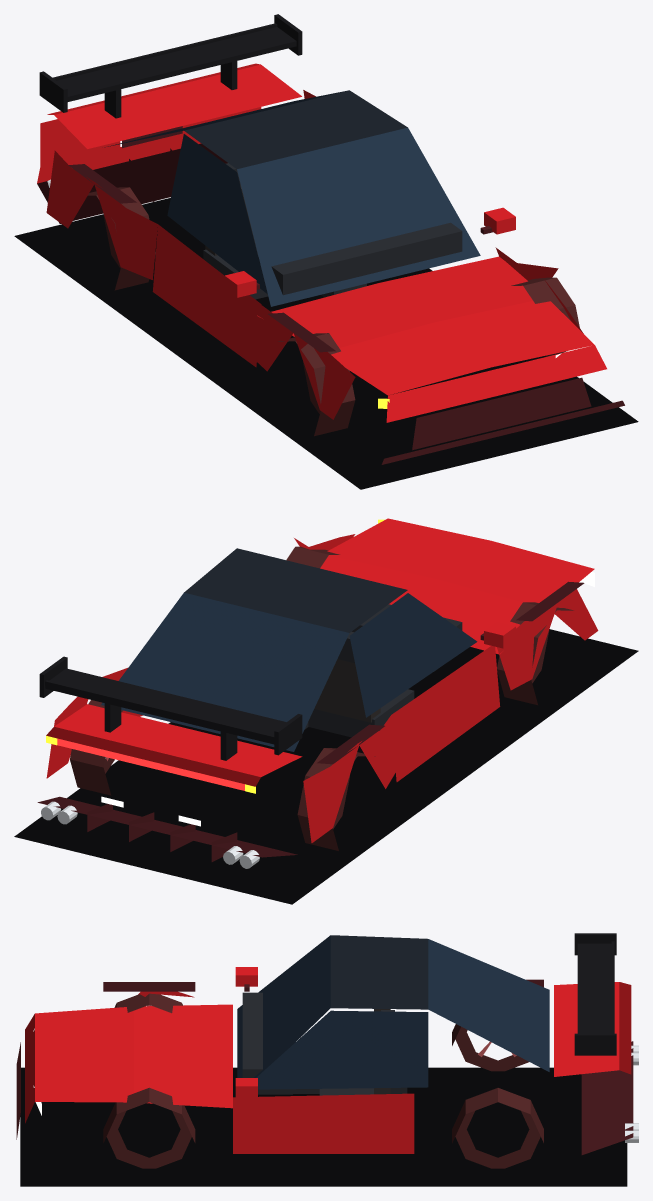
File: apex_gt_sports_coupe_lod2.glb
3 views of the same model, one above another, from view 1: azimuth 30°, elevation 25°; view 2: azimuth 150°, elevation 25°; view 3: azimuth 270°, elevation 25° (orthographic). The views are drawn at different scales.
Parts seen in each view (by area): view 1: Chassis, Glass, ContactShadow, Spoiler, Interior, Wheel_FL, Wheel_FR, Wheel_RL; view 2: Chassis, ContactShadow, Glass, Spoiler, Interior, Wheel_RR, BrakeLights, Wheel_FL, Wheel_RL, Exhaust, Wheel_FR; view 3: Chassis, ContactShadow, Glass, Spoiler, Wheel_RR, Wheel_FR, Interior, Wheel_RL, Wheel_FL, Exhaust.
Boxes of the visible parts, bbox=[...] form: Chassis: bbox=[37, 63, 624, 464]; Glass: bbox=[104, 90, 480, 306]; ContactShadow: bbox=[14, 198, 638, 489]; Spoiler: bbox=[39, 14, 302, 118]; Interior: bbox=[203, 163, 462, 299]; Wheel_FL: bbox=[278, 333, 355, 436]; Wheel_FR: bbox=[511, 277, 579, 356]; Wheel_RL: bbox=[88, 187, 155, 290]; Chassis: bbox=[37, 518, 598, 861]; ContactShadow: bbox=[14, 629, 638, 904]; Glass: bbox=[101, 548, 477, 751]; Spoiler: bbox=[39, 656, 302, 760]; Interior: bbox=[304, 604, 462, 737]; Wheel_RR: bbox=[70, 700, 122, 795]; BrakeLights: bbox=[57, 738, 244, 790]; Wheel_FL: bbox=[497, 602, 573, 705]; Wheel_RL: bbox=[297, 748, 375, 850]; Exhaust: bbox=[41, 801, 259, 868]; Wheel_FR: bbox=[286, 546, 339, 568]; Chassis: bbox=[16, 967, 633, 1154]; ContactShadow: bbox=[20, 1067, 627, 1186]; Glass: bbox=[237, 935, 549, 1089]; Spoiler: bbox=[574, 933, 616, 1055]; Wheel_RR: bbox=[452, 1088, 543, 1168]; Wheel_FR: bbox=[103, 1087, 195, 1168]; Interior: bbox=[242, 992, 407, 1095]; Wheel_RL: bbox=[452, 1024, 528, 1071]; Wheel_FL: bbox=[114, 993, 182, 1013]; Exhaust: bbox=[625, 1045, 638, 1142].
Bounding box in the file's own units: 2.02 × 1.25 × 4.48.
